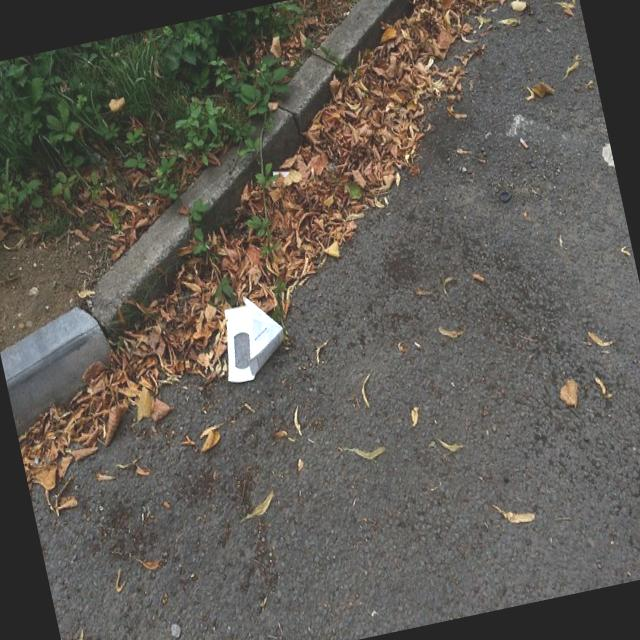Recycle: (212, 289, 294, 389)
